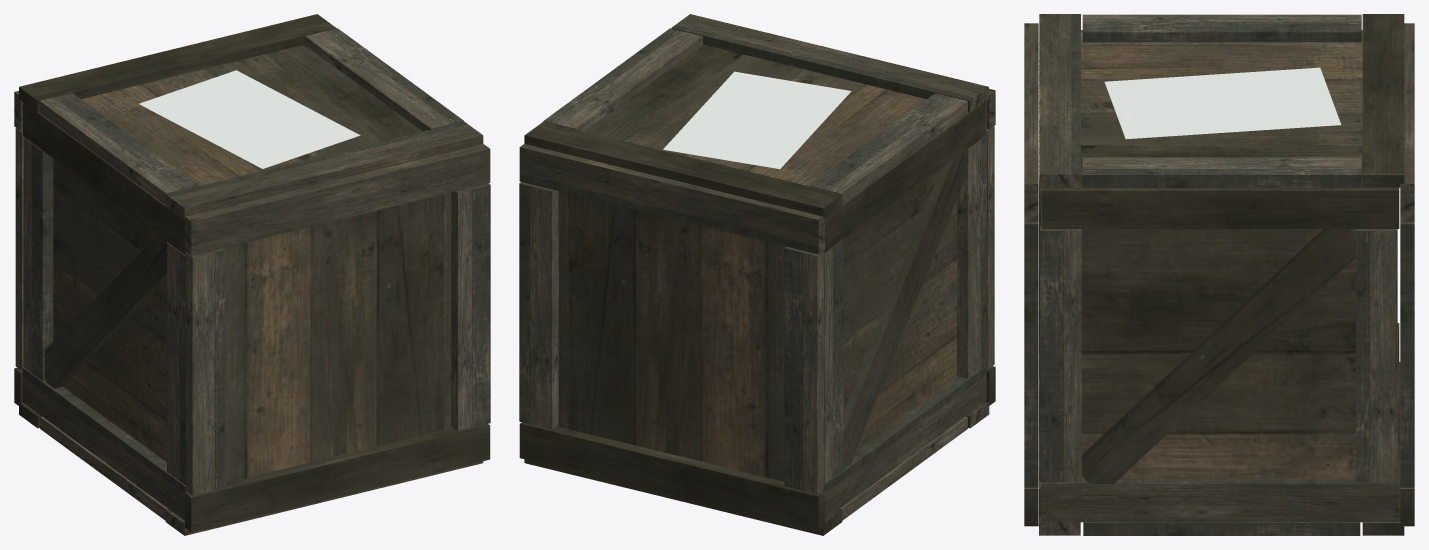
File: prop_crate_wehrmacht8_wet.glb
The picture shows the model from 3 angles, left to right: view 1: azimuth 30°, elevation 25°; view 2: azimuth 150°, elevation 25°; view 3: azimuth 270°, elevation 25°; orthographic projection. The views are drawn at different scales.
Bounding box in the file's own units: 24.15 × 25.1 × 24.6.
2 materials, 2 textured.
